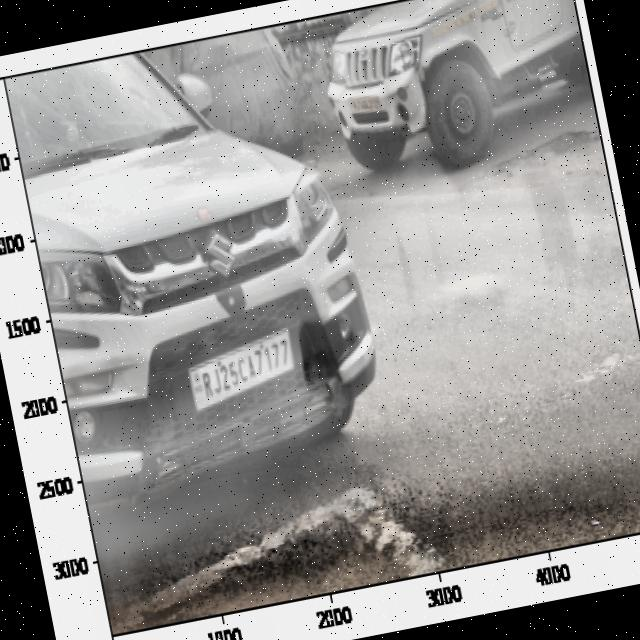license_plate: (193, 335, 300, 402)
